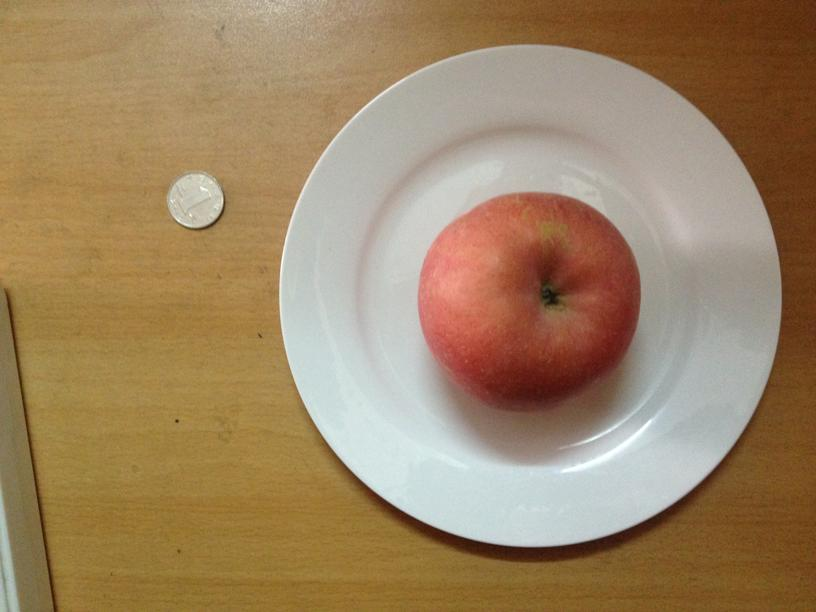apple: (417, 189, 641, 412)
coin: (163, 169, 227, 229)
